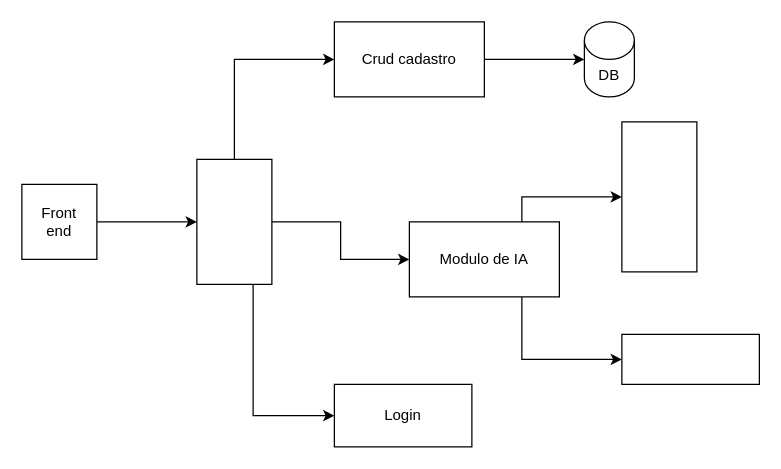
The diagram is 781 pixels wide and 469 high, and some of its shapes have lost their labels. Each missing label, with the centre of its shape:
Gateway: point 234,221
MCP: point 659,196
RAG de recomendação: point 690,358
